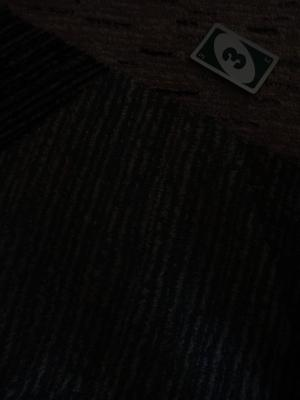num_3: (216, 44, 253, 74)
